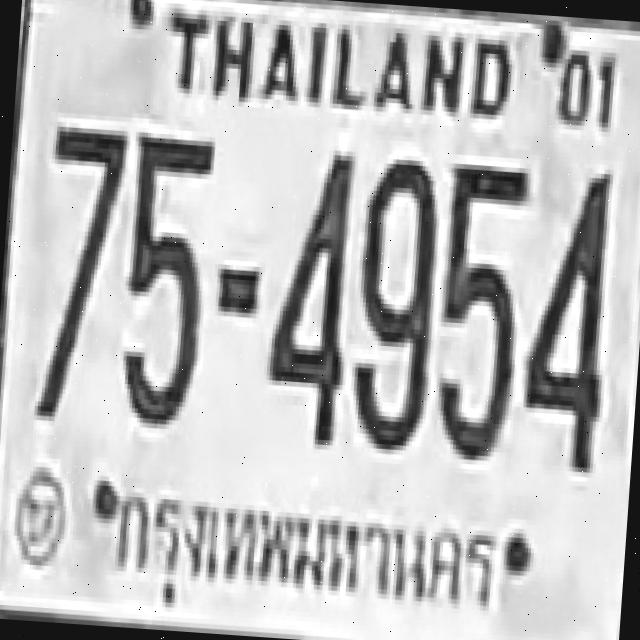4: (518, 164, 614, 468), (262, 144, 356, 443)
5: (116, 129, 216, 428), (430, 158, 530, 457)
7: (32, 119, 126, 422), (37, 121, 128, 378)
9: (346, 152, 441, 446)
Bangkok: (102, 468, 504, 640)
